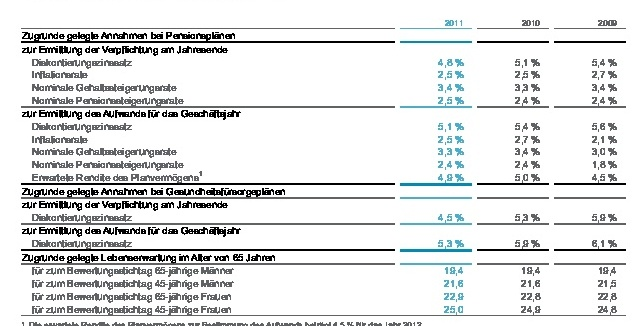table: (0, 0, 644, 326)
